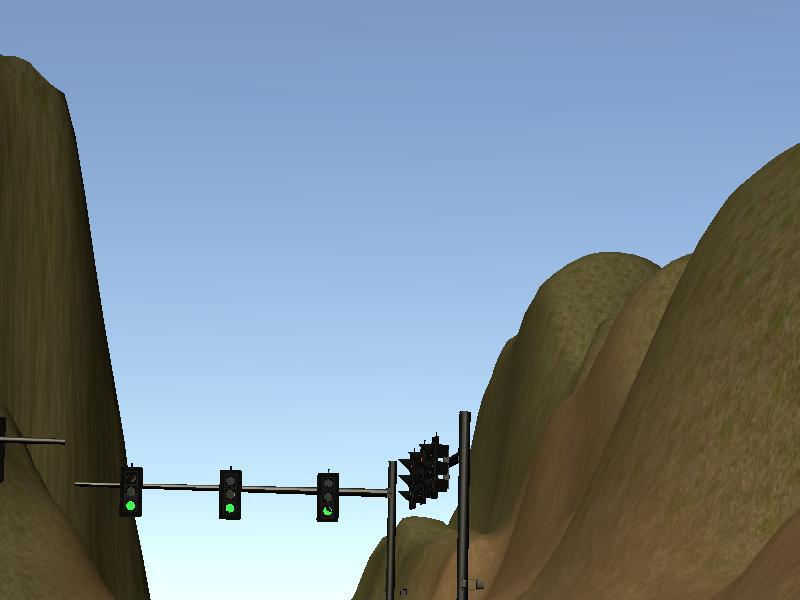Green: (318, 474, 340, 522), (122, 467, 141, 517), (221, 470, 240, 520)
